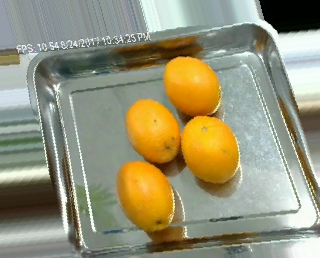Orange: (115, 160, 175, 232), (181, 115, 239, 184), (124, 99, 179, 165), (162, 55, 221, 115)
